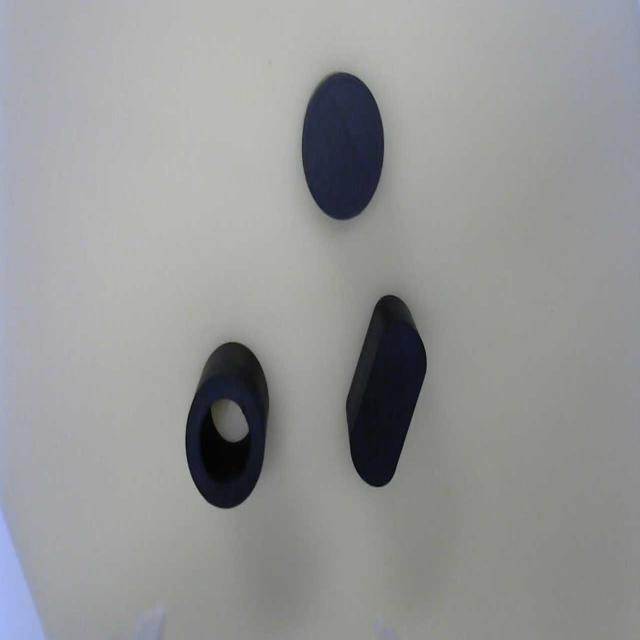circle: (302, 74, 384, 221)
oval: (343, 312, 434, 499)
ring: (184, 375, 264, 509)
